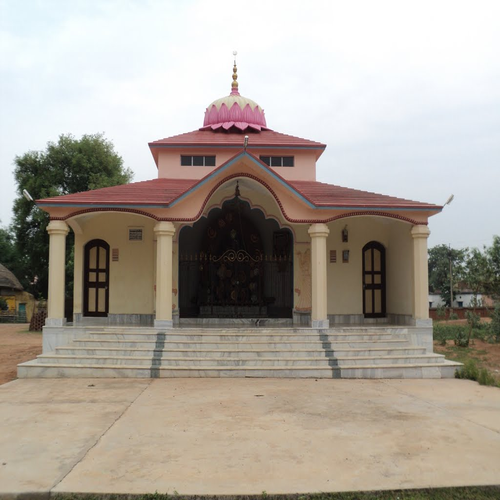Temple: (34, 59, 449, 377)
